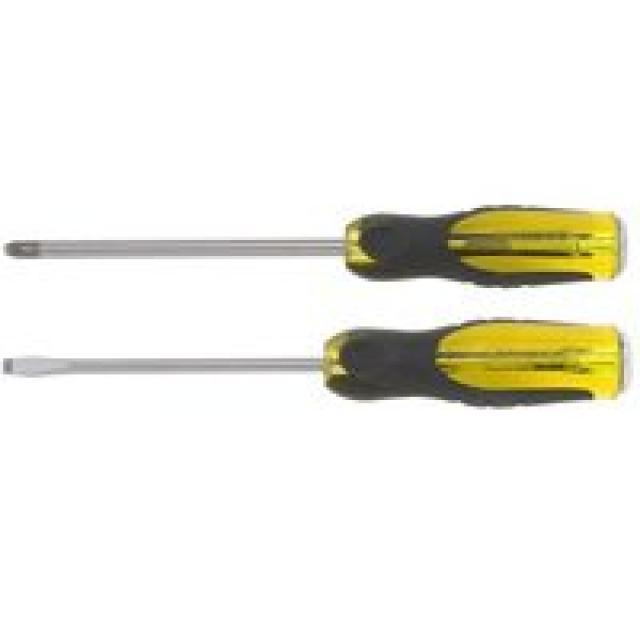screwdriver: (0, 313, 628, 412), (0, 200, 629, 290)
